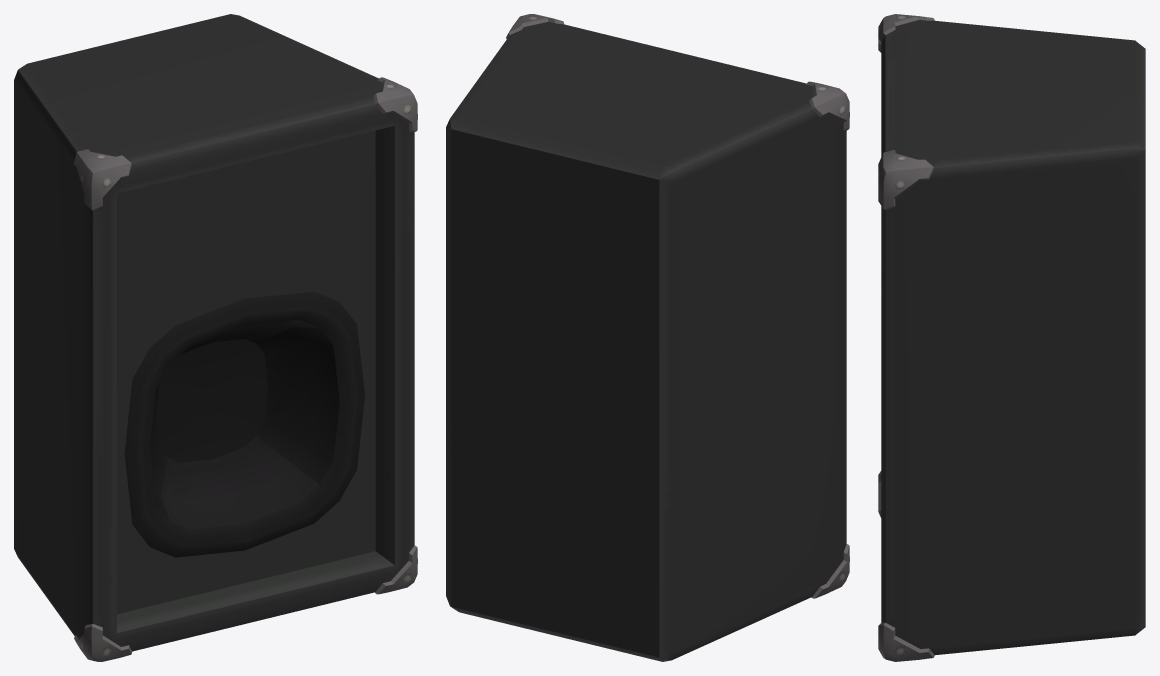
File: speaker.glb
The picture shows the model from 3 angles, left to right: view 1: azimuth 30°, elevation 25°; view 2: azimuth 150°, elevation 25°; view 3: azimuth 270°, elevation 25°; orthographic projection.
Visible parts, largest first — view 1: Quest_Speaker; view 2: Quest_Speaker; view 3: Quest_Speaker.
Boxes of the visible parts, x1=… form: Quest_Speaker: x1=14, y1=14, x2=417, y2=661; Quest_Speaker: x1=446, y1=14, x2=849, y2=661; Quest_Speaker: x1=878, y1=14, x2=1145, y2=661.
Size of the model in its own units: 0.4543 by 0.6573 by 0.3187.
Materials: 1 (1 with a texture image).
